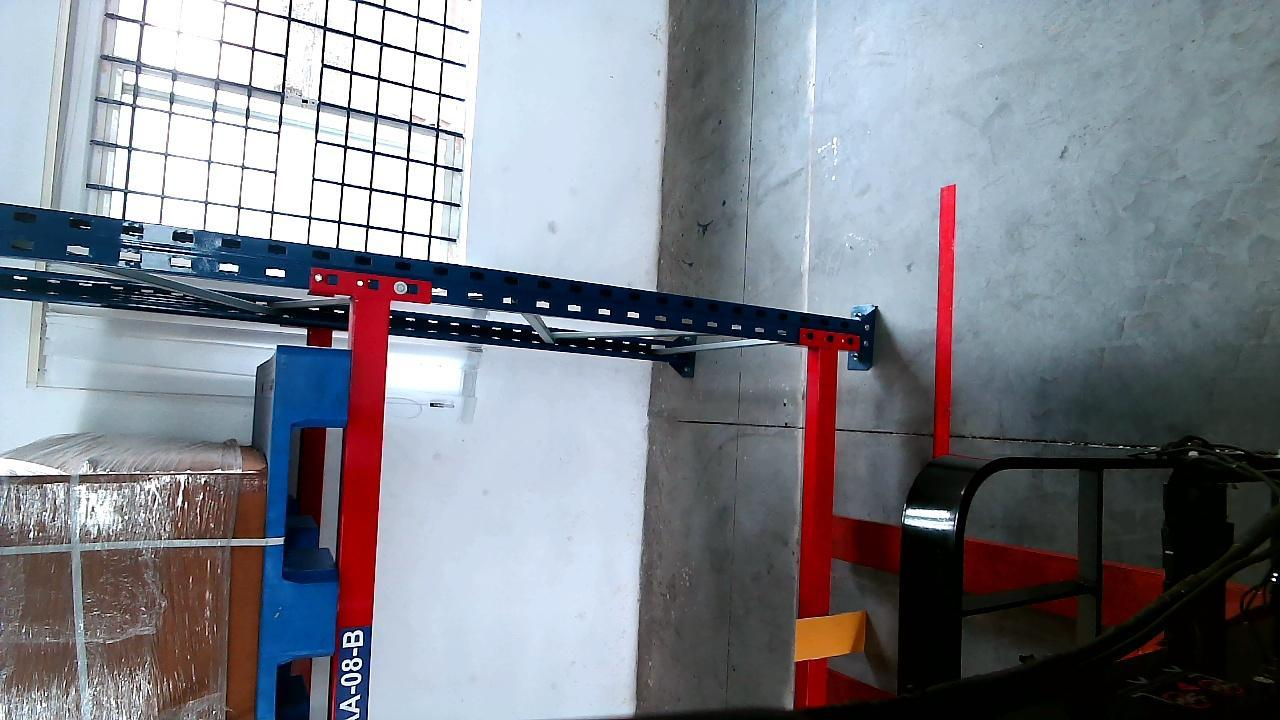red_line: (936, 183, 957, 455)
